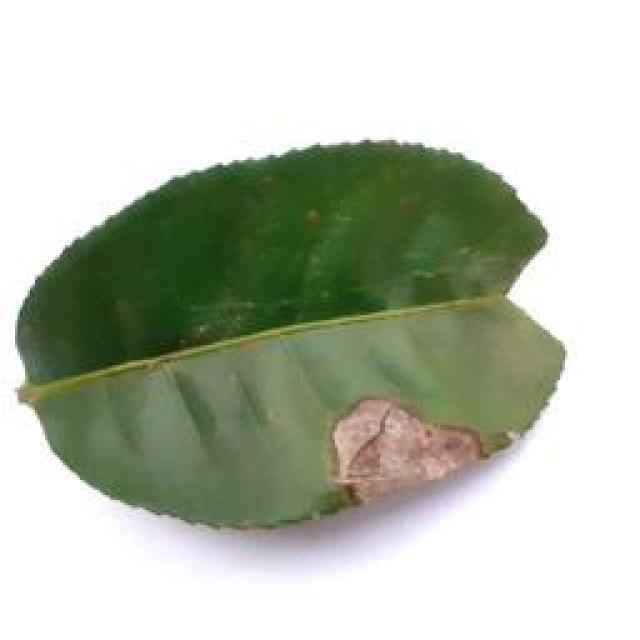Gray Blight: (18, 134, 564, 530)
